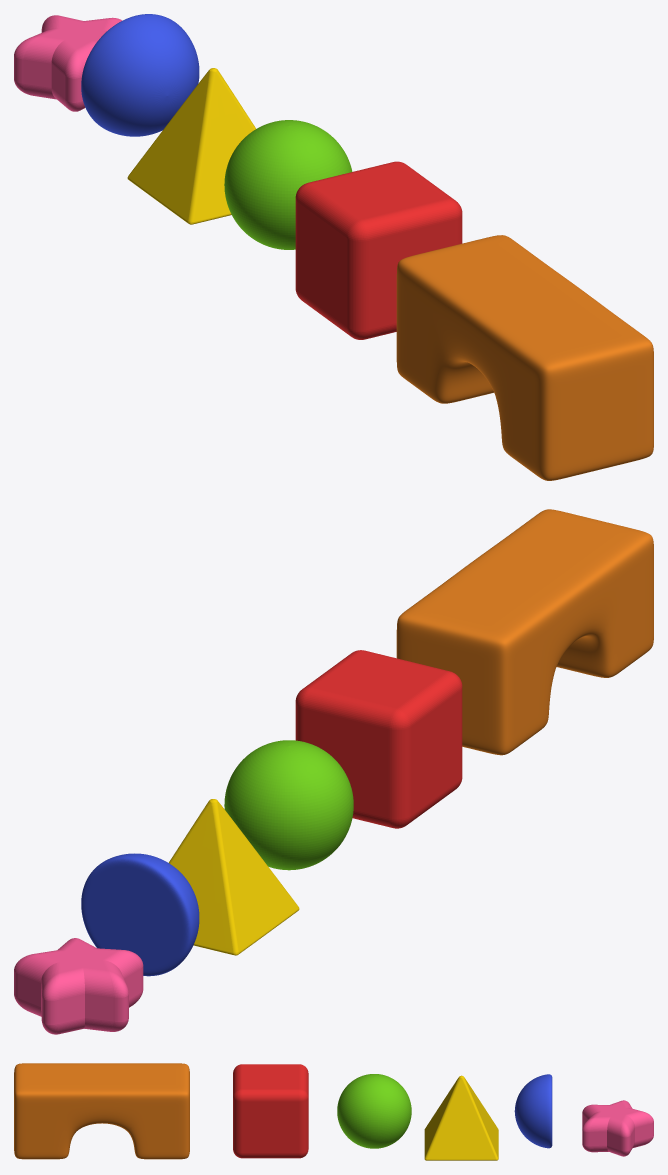
Rendered from Shapes.fbx.
The picture shows the model from 3 angles, top to bottom: view 1: azimuth 30°, elevation 25°; view 2: azimuth 150°, elevation 25°; view 3: azimuth 270°, elevation 25°; orthographic projection. The views are drawn at different scales.
Parts seen in each view (by area): view 1: bridge, Cube, half circle, piramid, Sphere, star; view 2: bridge, Cube, Sphere, piramid, half circle, star; view 3: bridge, Cube, piramid, Sphere, star, half circle.
Boxes of the visible parts, box(x1,y1,x2,y2) form: bridge: box(396, 235, 653, 480); Cube: box(295, 161, 462, 339); half circle: box(81, 14, 199, 136); piramid: box(127, 68, 255, 224); Sphere: box(224, 120, 352, 249); star: box(14, 15, 122, 111); bridge: box(396, 509, 653, 755); Cube: box(295, 650, 462, 828); Sphere: box(224, 740, 353, 870); piramid: box(169, 799, 299, 955); half circle: box(81, 853, 199, 976); star: box(14, 938, 143, 1034); bridge: box(14, 1063, 189, 1159); Cube: box(233, 1064, 308, 1158); piramid: box(424, 1075, 498, 1160); Sphere: box(337, 1074, 411, 1148); star: box(582, 1100, 653, 1156); half circle: box(514, 1074, 552, 1148).
Size of the model in its own units: 200 by 203 by 1695.
